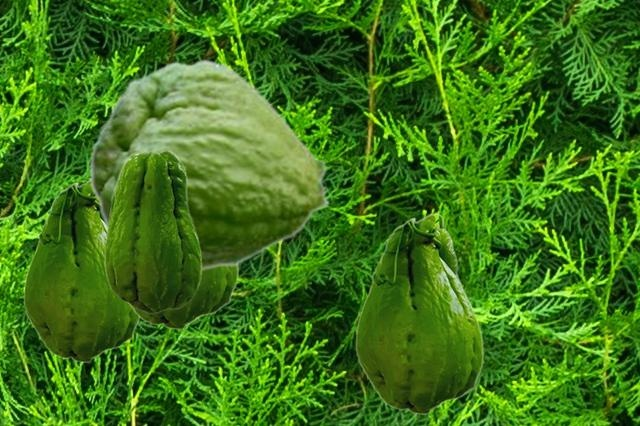sayote: (89, 58, 331, 273), (355, 212, 483, 414), (23, 180, 140, 362), (104, 149, 201, 313), (129, 267, 238, 329)
